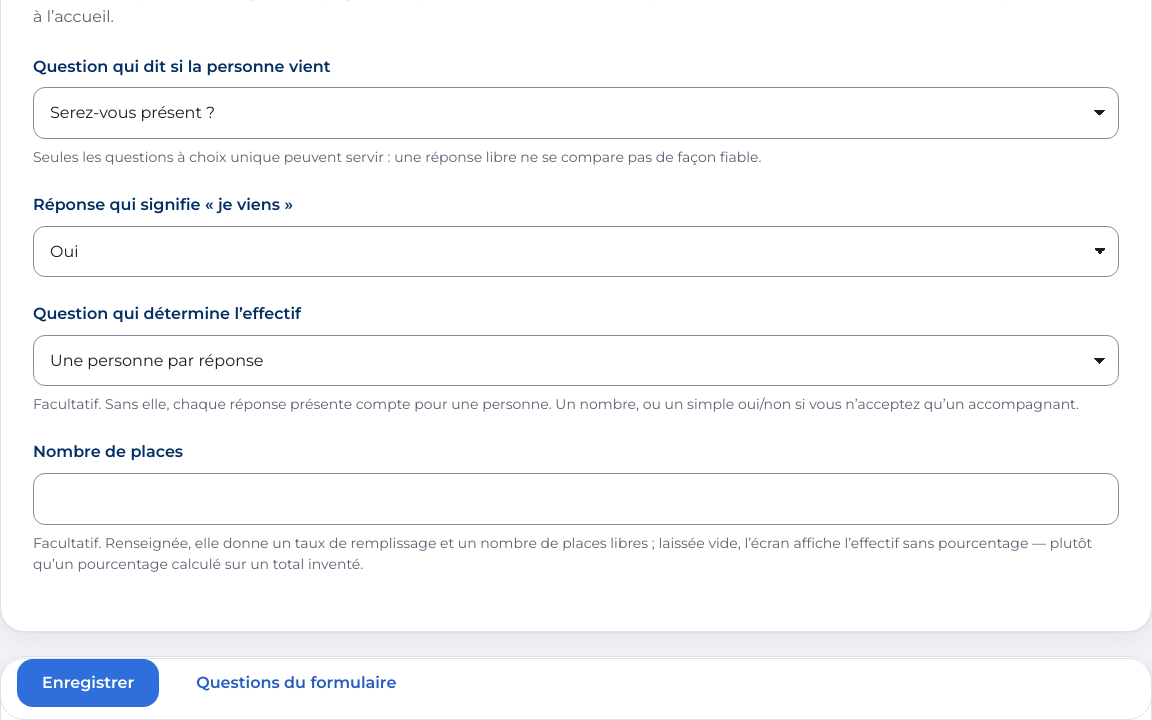
comptage des présents › demande si le nombre compte les accompagnants ou le total
(page scrolled)
Select "Combien vous accompagnent ?" in the dropdown labelled "Question qui détermine l’effectif" at (576, 361), box [33,335,1119,386]
(page scrolled)
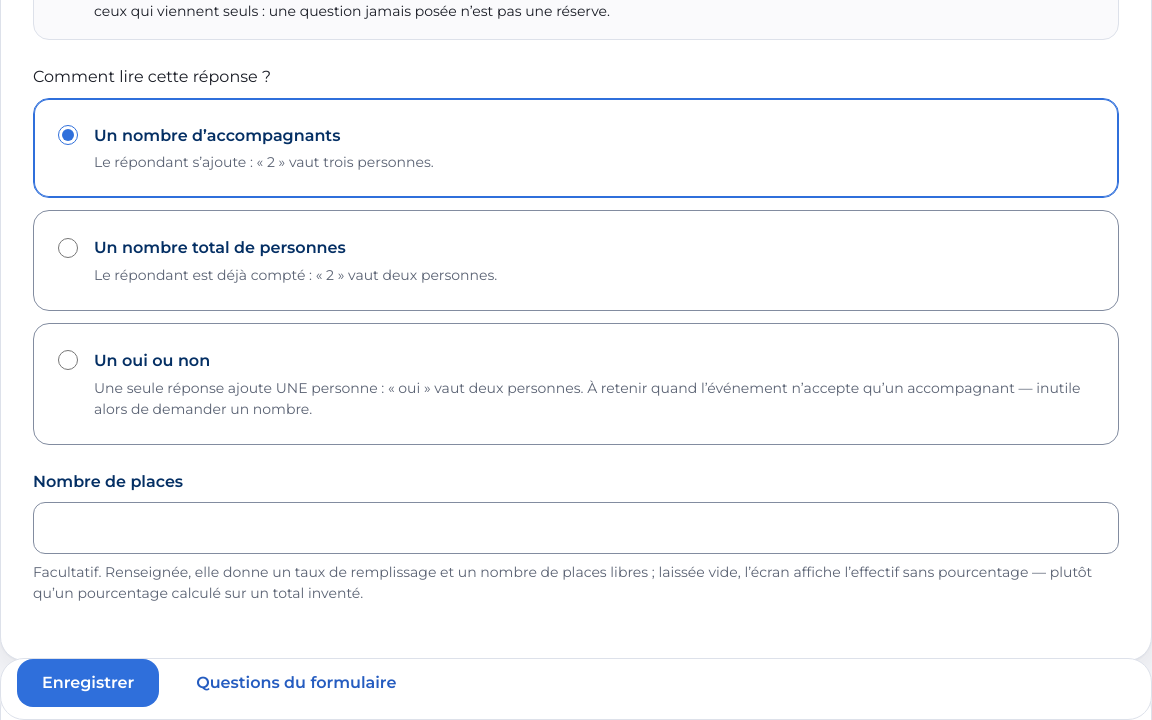
Expected: the element "Comment lire cette réponse ?" is shown, [33,64,1119,445]
Expected: the radio button labelled "Un nombre d’accompagnants" is shown, [58,125,78,145]
Expected: the radio button labelled "Un nombre total" is shown, [58,238,78,258]
